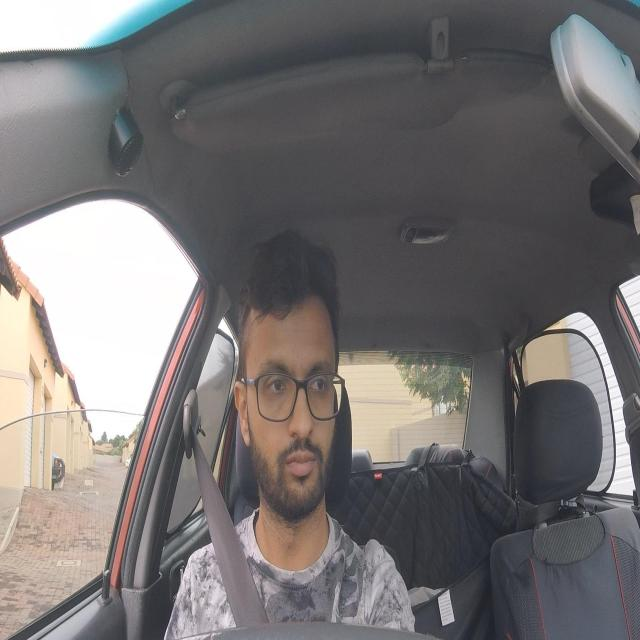open: (259, 354, 295, 414), (303, 353, 333, 409)
